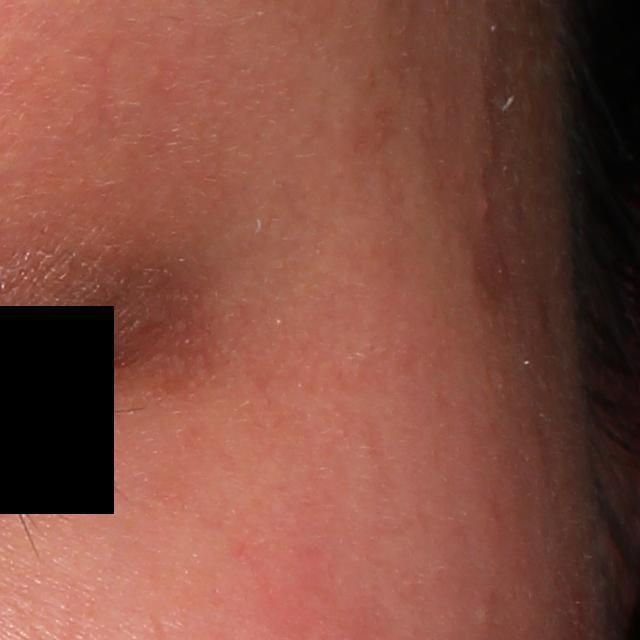papule: (477, 192, 501, 225)
